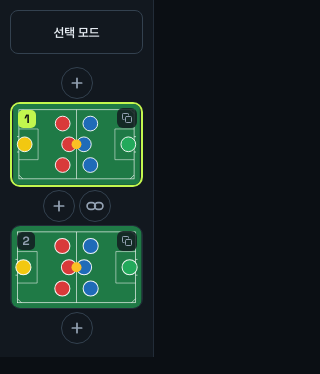
Test: 우클릭 메뉴 — 열림/닫힘 › Esc 로 닫힌다
The width and height of the screenshot is (320, 374).
Right-click the button "1" at (76, 144), box [10,102,143,187]
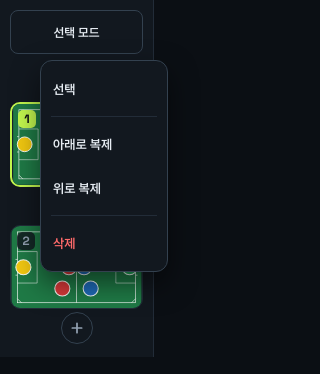
Press Escape
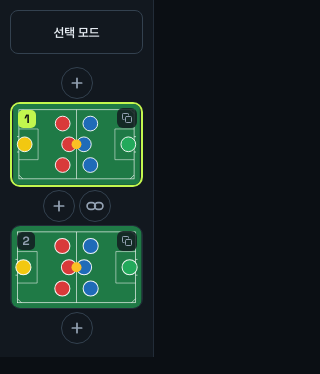
Expected: the menu is gone
